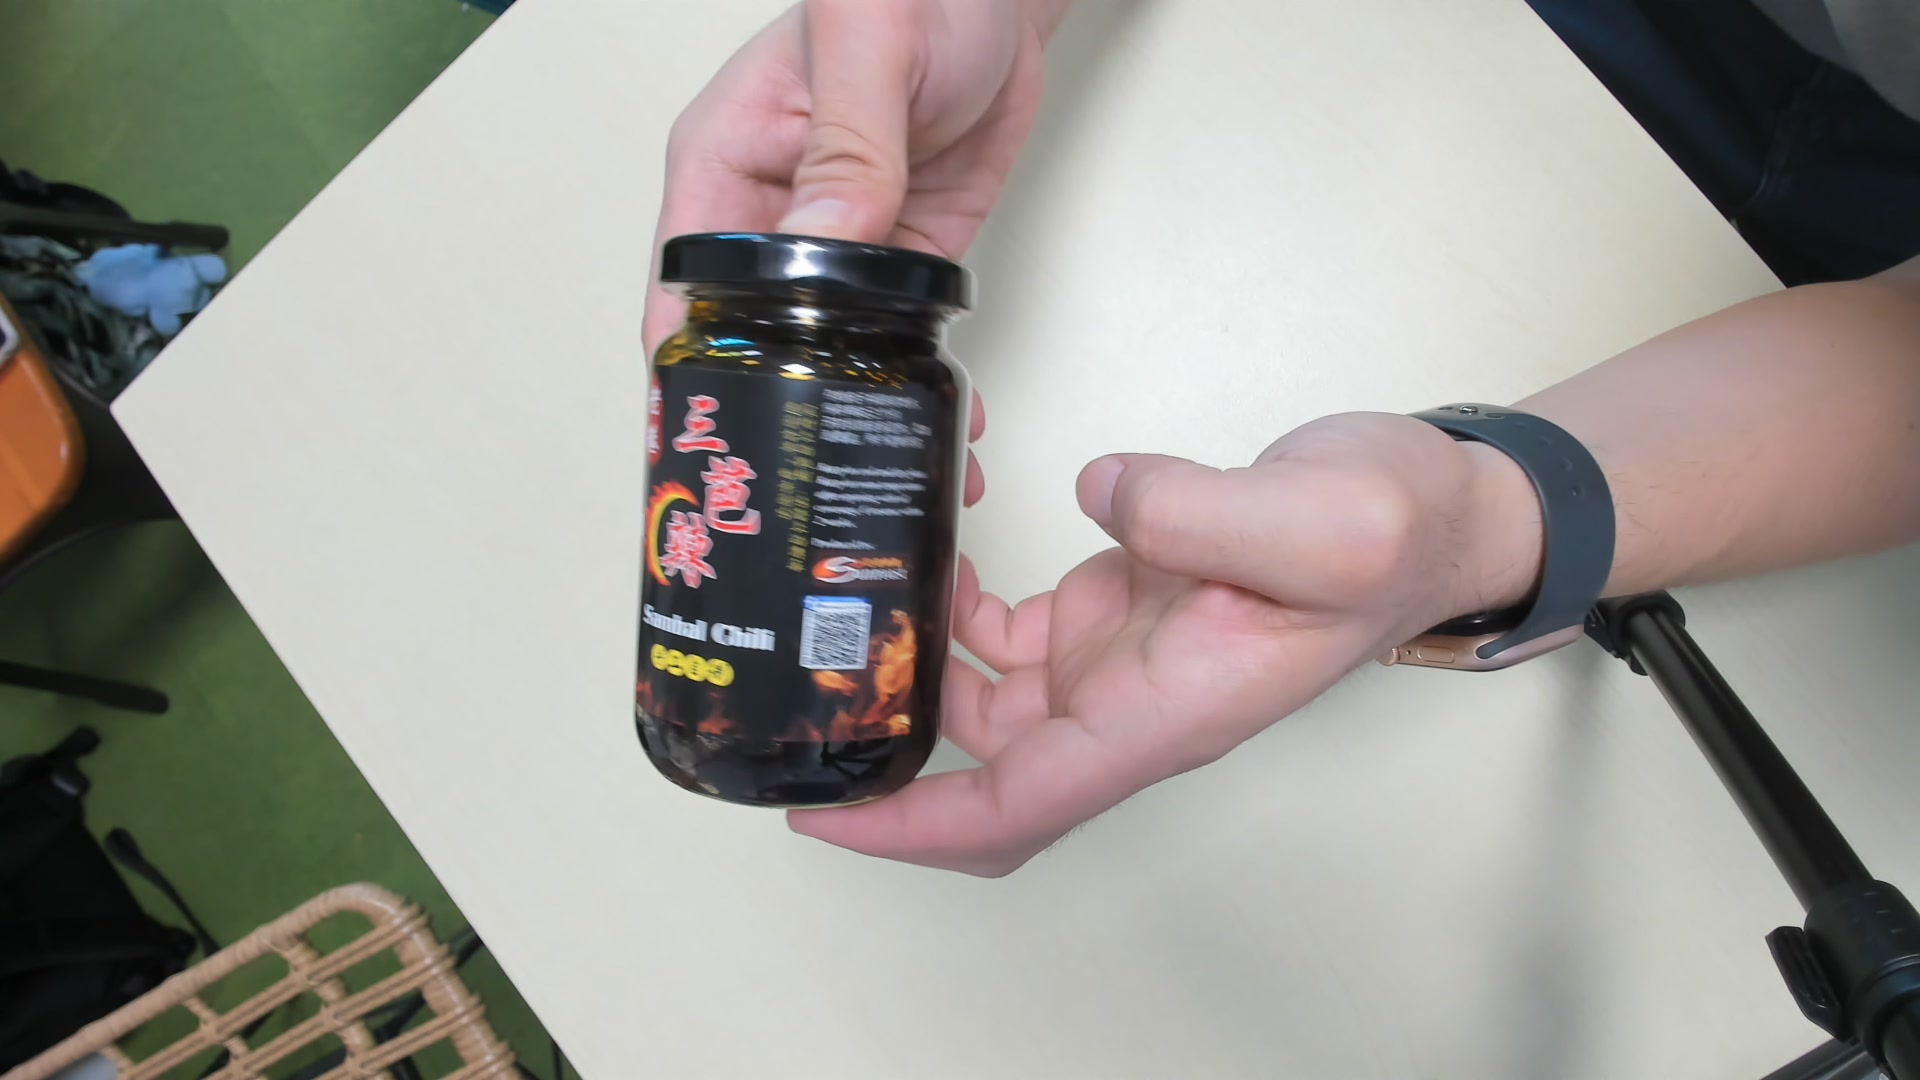OtherSauceDressing_300-399g_NonHalal_NonHealthy: (633, 210, 984, 819)
